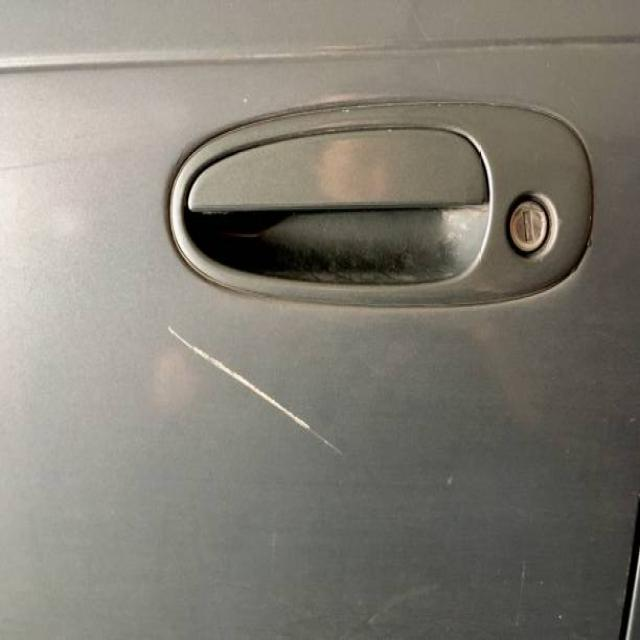scratch: (148, 303, 385, 481)
